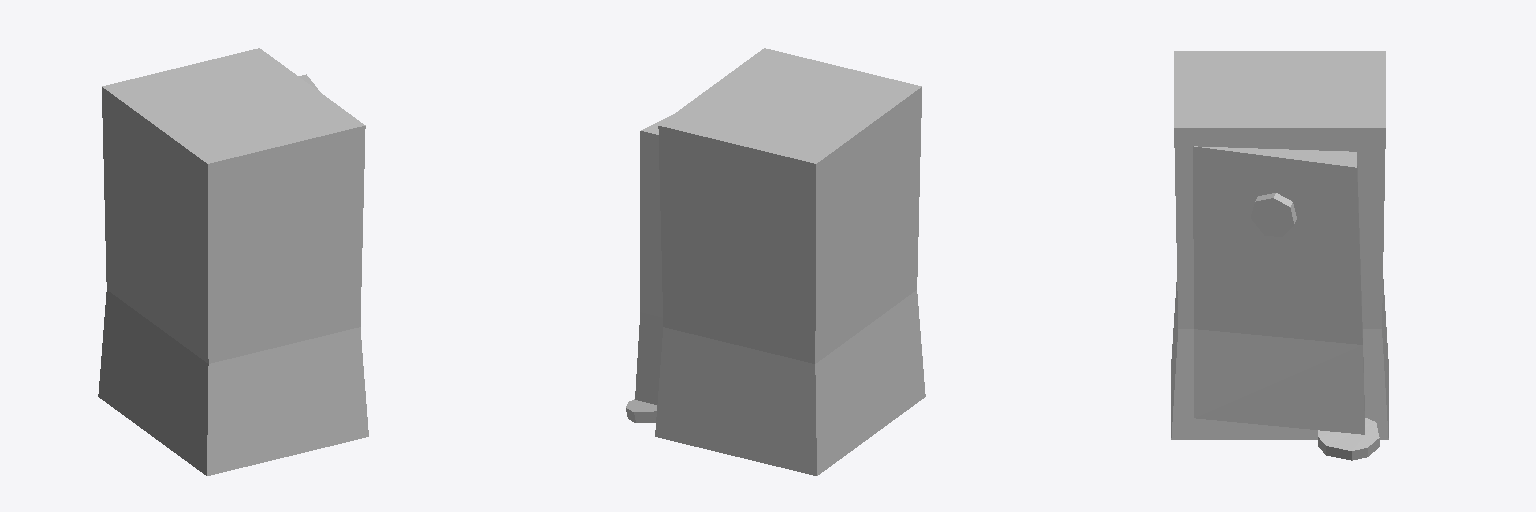
Rendered from Vault Magma.obj.
3 renders of one model, left to right at view 1: azimuth 30°, elevation 25°; view 2: azimuth 150°, elevation 25°; view 3: azimuth 270°, elevation 25°, orthographic.
Parts seen in each view (by area): view 1: VaultMagma1; view 2: VaultMagma1; view 3: VaultMagma1.
Part boxes in pixels (x1,y1,x2,y2): VaultMagma1: (98,48,368,475); VaultMagma1: (626,48,925,475); VaultMagma1: (1171,51,1388,460).
Bounding box in the file's own units: 7.94 × 11.4 × 7.22.